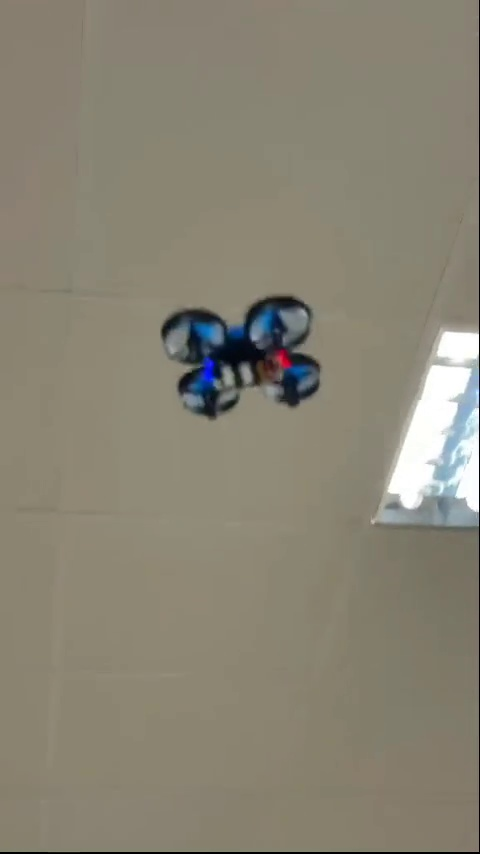drone: (158, 298, 321, 417)
